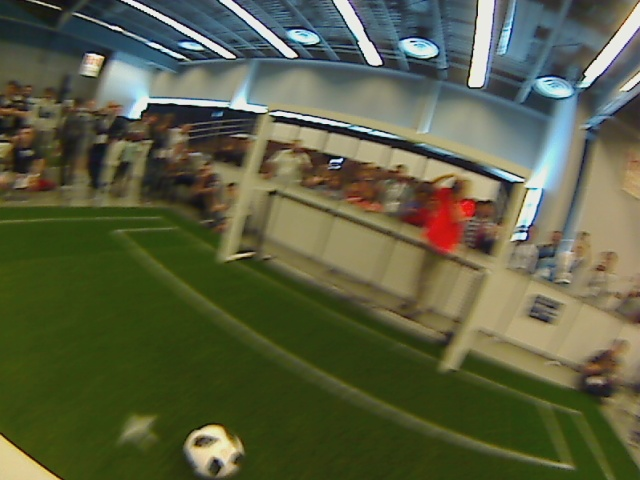ball: (182, 424, 246, 480)
